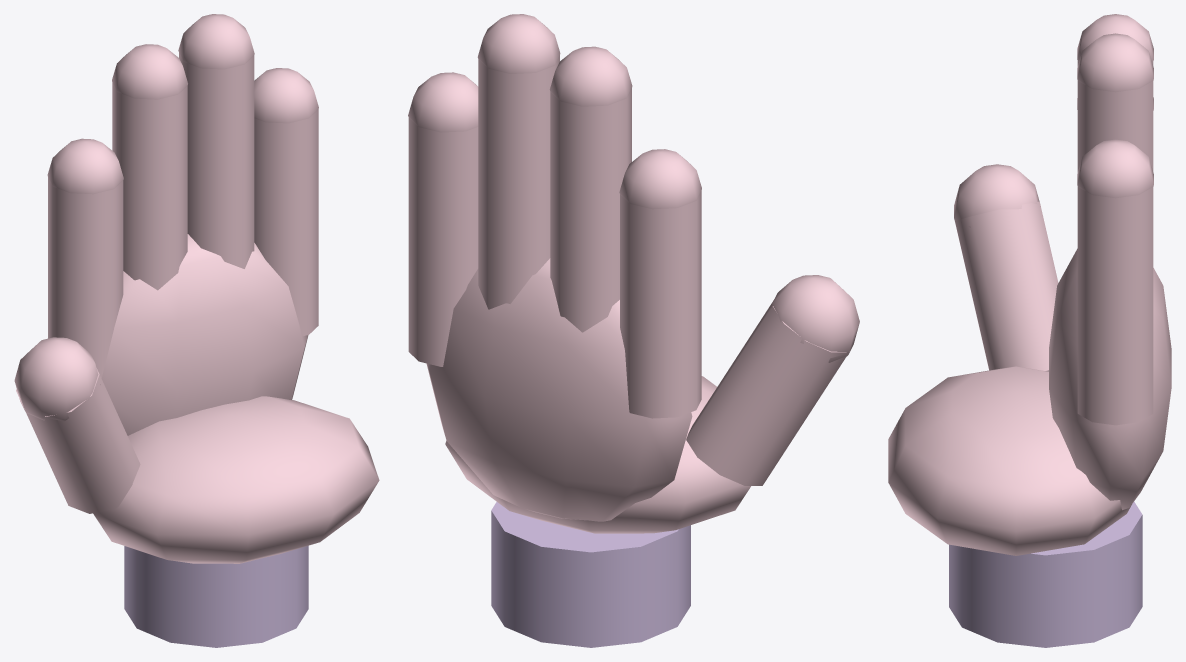
Rendered from 10_sillon_mano.glb.
3 views of the same model, side by side, from view 1: azimuth 30°, elevation 25°; view 2: azimuth 150°, elevation 25°; view 3: azimuth 270°, elevation 25° (orthographic). The views are drawn at different scales.
Parts seen in each view (by area): view 1: body (×2); view 2: body (×2); view 3: body (×2).
Boxes of the visible parts, x1=… form: body (×2): x1=14, y1=14, x2=379, y2=647; body (×2): x1=408, y1=14, x2=859, y2=647; body (×2): x1=888, y1=14, x2=1171, y2=647.
Bounding box in the file's own units: 0.805 × 1.2 × 0.5269.
